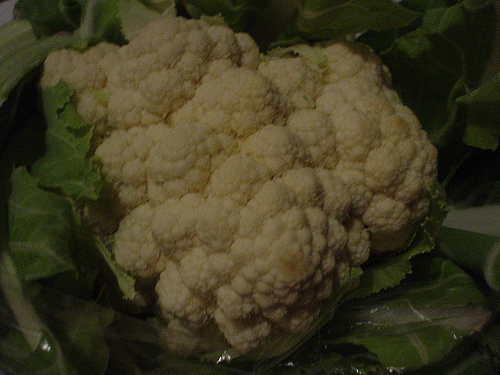cauliflower: (43, 15, 439, 350)
